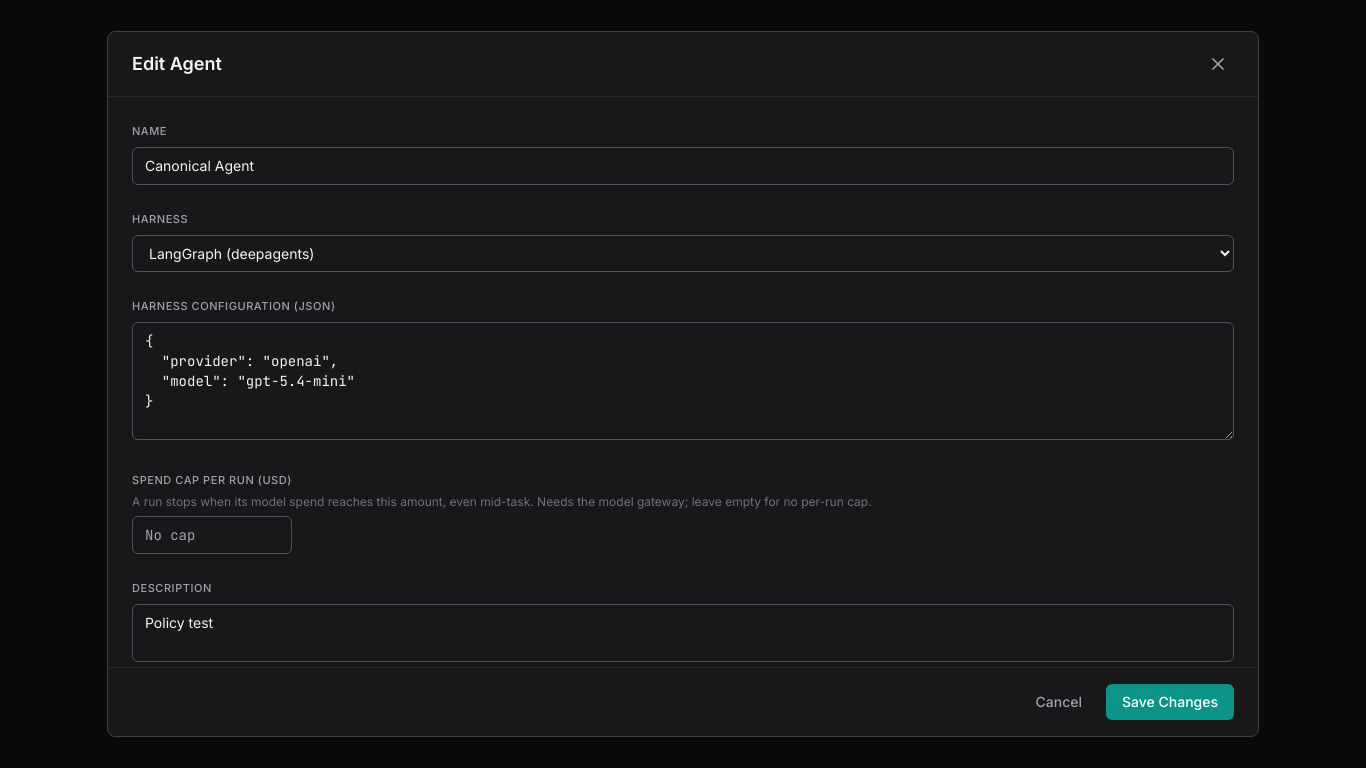
Test: AgentFormModal › keeps the editor open and shows the exact backend contract error
Click the button "Save Changes": (1170, 702) [1106, 684, 1234, 720]
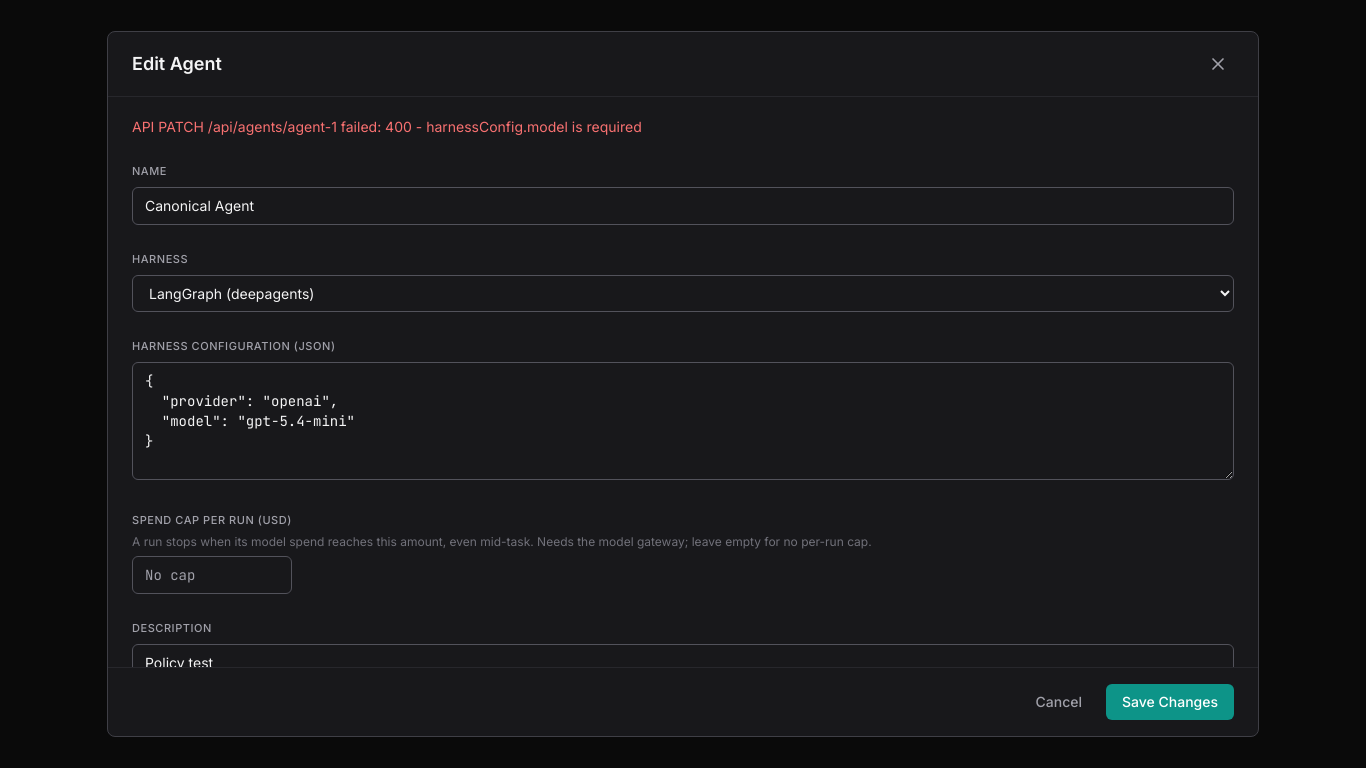
Now the message "API PATCH /api/agents/agent-1 failed: 400 - harnessConfig.model is required" is shown, box [132, 118, 642, 135]
